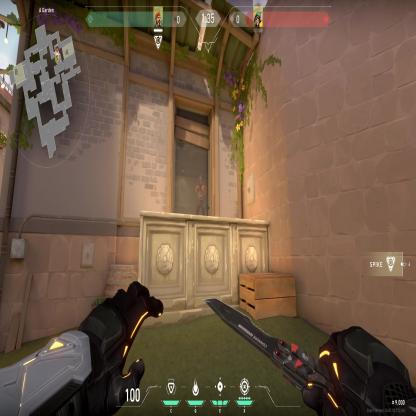enemy: (193, 172, 205, 216)
